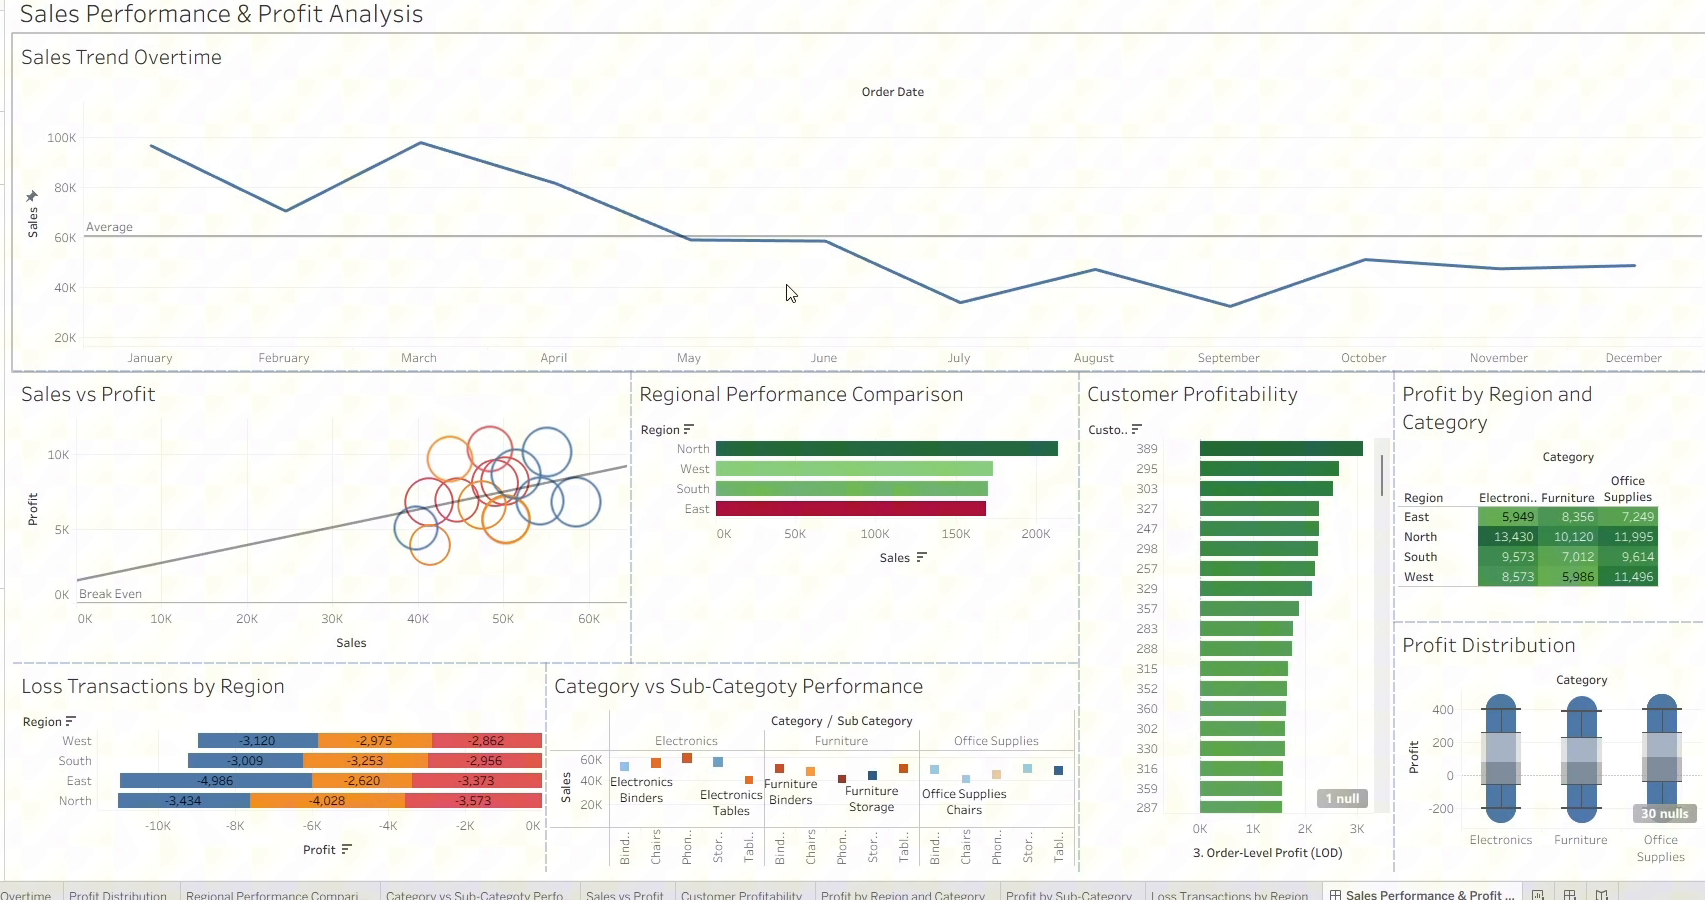

The page's visual inventory and layout, read from the dashboard file:
{"tool":"tableau","page":{"name":"Sales Performance & Profit Analysis","canvas":[1000,1000],"units":"permille","ordinal":0},"visuals":[{"type":"title","box":[4.7,9.2,990.6,48.5]},{"type":"worksheet","title":"Sales Trend Overtime","mark":"Automatic","rows":["Sales"],"cols":["Order_Date"],"box":[4.7,57.7,990.6,375.3]},{"type":"worksheet","title":"Sales vs Profit","mark":"Automatic","rows":["Profit"],"cols":["Sales"],"box":[4.7,433.1,361.6,324.5]},{"type":"worksheet","title":"Regional Performance Comparison","mark":"Automatic","rows":["Region"],"cols":["Sales"],"box":[366.3,433.1,262.1,324.5]},{"type":"worksheet","title":"Customer Profitability","mark":"Automatic","rows":["Customer_ID"],"cols":["Calculation_0552020248387588"],"box":[628.4,433.1,184.3,557.7]},{"type":"worksheet","title":"Profit by Region and Category","mark":"Square","rows":["Region"],"cols":["Category"],"box":[812.7,433.1,182.6,278.9]},{"type":"worksheet","title":"Profit Distribution","mark":"Circle","rows":["Profit"],"cols":["Category"],"box":[812.7,711.9,182.6,278.9]},{"type":"worksheet","title":"Loss Transactions by Region","mark":"Bar","rows":["Region"],"cols":["Profit"],"box":[4.7,757.5,311.9,233.2]},{"type":"worksheet","title":"Category vs Sub-Categoty Performance","mark":"Square","rows":["Sales"],"cols":["Category","Sub_Category"],"box":[316.5,757.5,311.9,233.2]}]}

Visuals, with their boxes on the dashboard's canvas, which has no fixed pixel size, in thousandths of its width and height (x1, y1, x2, y2). These are canvas units, not pixel positions in the 1705x900 screenshot, which may show the page scaled, cropped or inside an application window:
title: bbox=[5, 9, 995, 58]
"Sales Trend Overtime" worksheet: bbox=[5, 58, 995, 433]
"Sales vs Profit" worksheet: bbox=[5, 433, 366, 758]
"Regional Performance Comparison" worksheet: bbox=[366, 433, 628, 758]
"Customer Profitability" worksheet: bbox=[628, 433, 813, 991]
"Profit by Region and Category" worksheet (Square marks): bbox=[813, 433, 995, 712]
"Profit Distribution" worksheet (Circle marks): bbox=[813, 712, 995, 991]
"Loss Transactions by Region" worksheet (Bar marks): bbox=[5, 758, 317, 991]
"Category vs Sub-Categoty Performance" worksheet (Square marks): bbox=[316, 758, 628, 991]
